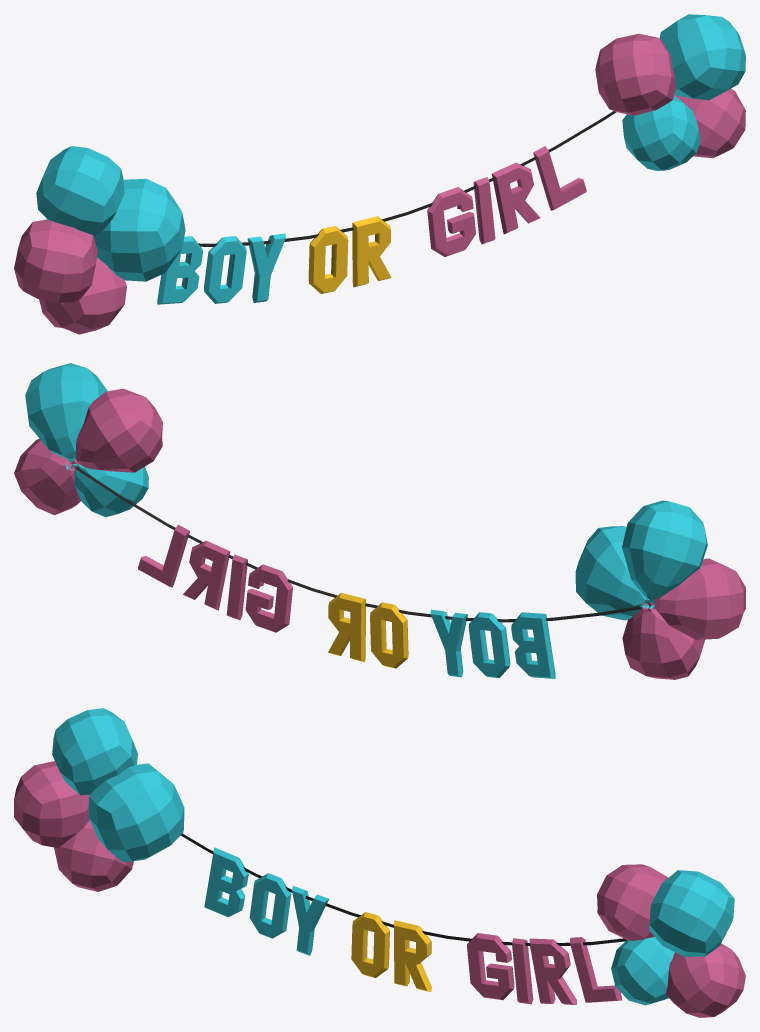
File: props-balloons-sign-boy-or-girl-big.glb
3 renders of one model, top to bottom at view 1: azimuth 30°, elevation 25°; view 2: azimuth 150°, elevation 25°; view 3: azimuth 330°, elevation 25°, orthographic. The views are drawn at different scales.
Visible parts, largest first — view 1: balloons-sign-boy-or-girl-big; view 2: balloons-sign-boy-or-girl-big; view 3: balloons-sign-boy-or-girl-big.
Part boxes in pixels (<box>): balloons-sign-boy-or-girl-big: <box>14,14,745,334</box>; balloons-sign-boy-or-girl-big: <box>14,363,745,679</box>; balloons-sign-boy-or-girl-big: <box>14,708,745,1017</box>.
Bounding box in the file's own units: 3.09 × 0.8896 × 0.3934.
